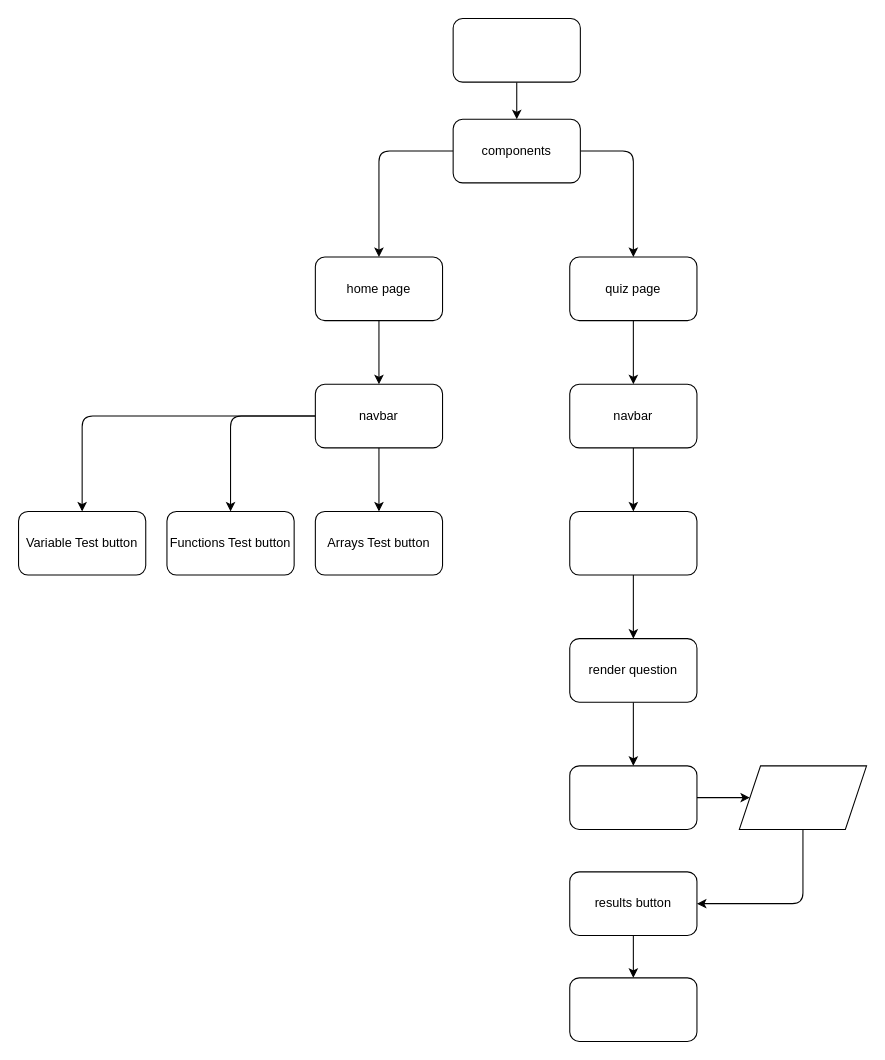
Some shapes in this 885 by 1060 pixel diagram are drawn without their labels. The shapes that lost their labels are listed below. From the top down, each one's box as (x1, y1, x2, y2) in pixels, then its label:
(452, 17, 580, 82): App
(569, 510, 697, 575): quiz data
(569, 765, 697, 829): next question button
(738, 765, 867, 829): Count of 5 questions then show results button
(569, 977, 697, 1041): render results
